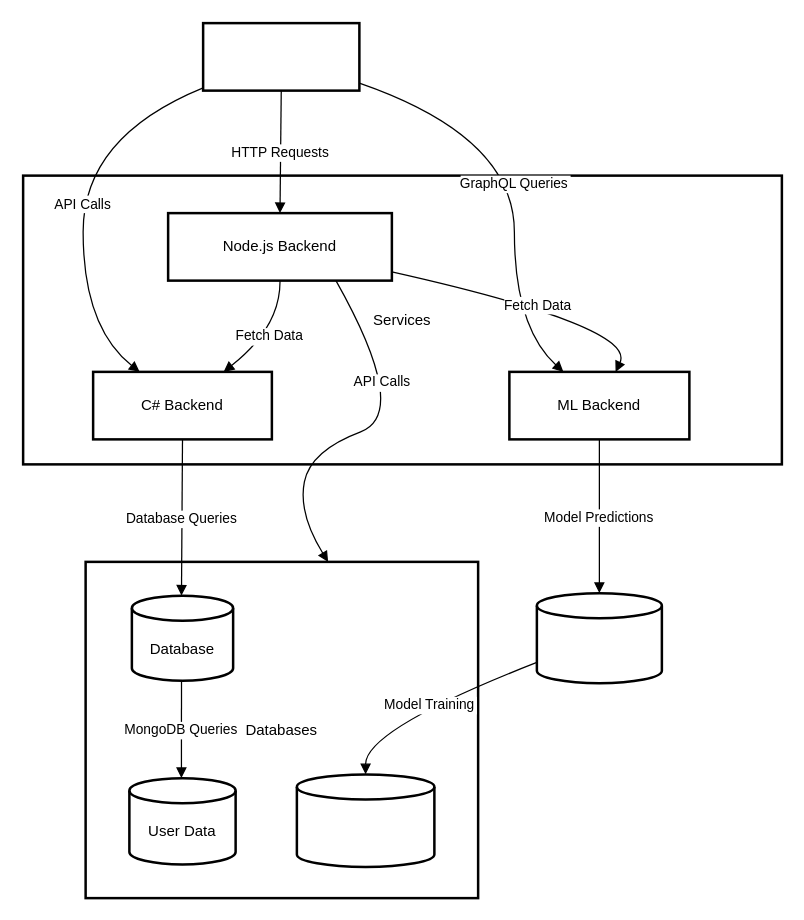
Some shapes in this 804 by 920 pixel diagram are drawn without their labels. The centre of each missing label's shape, as x and y in pixels:
Frontend: pixel 280 56
Model Store: pixel 598 637
Training Data: pixel 365 820
